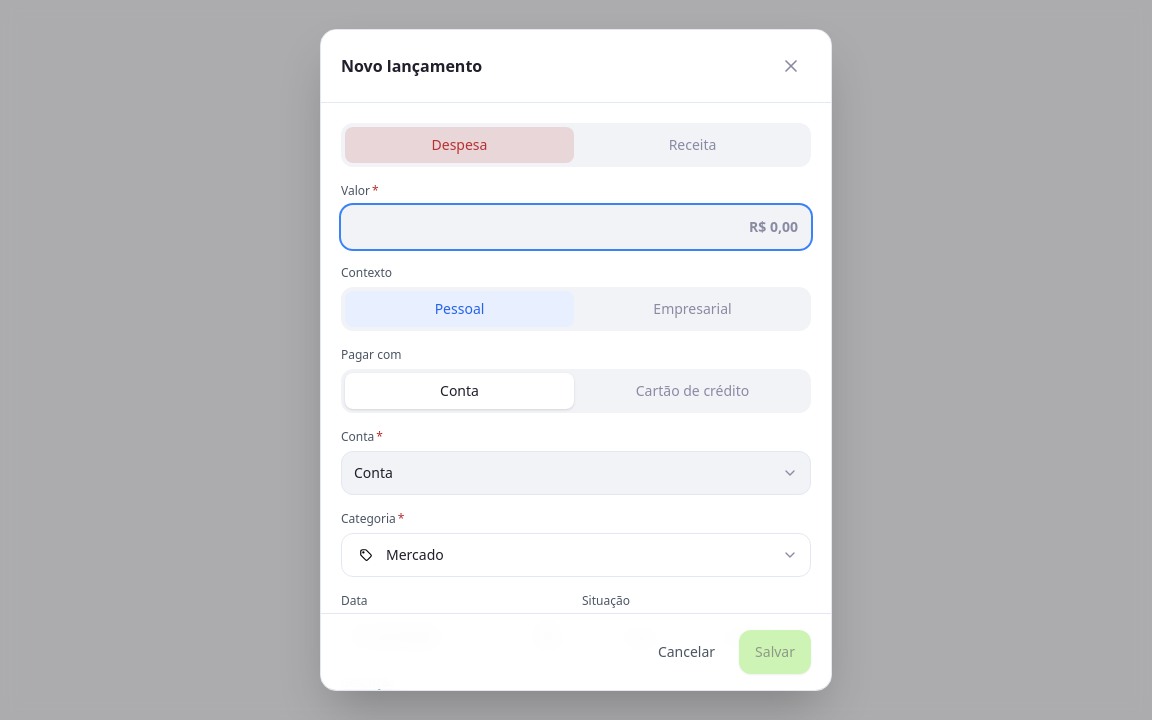
TransactionModal › rollback que falha avisa para remover a recorrência
In the field with placeholder "R$ 0,00": x=576, y=227 [341,205,811,249], type "50,00"
(page scrolled)
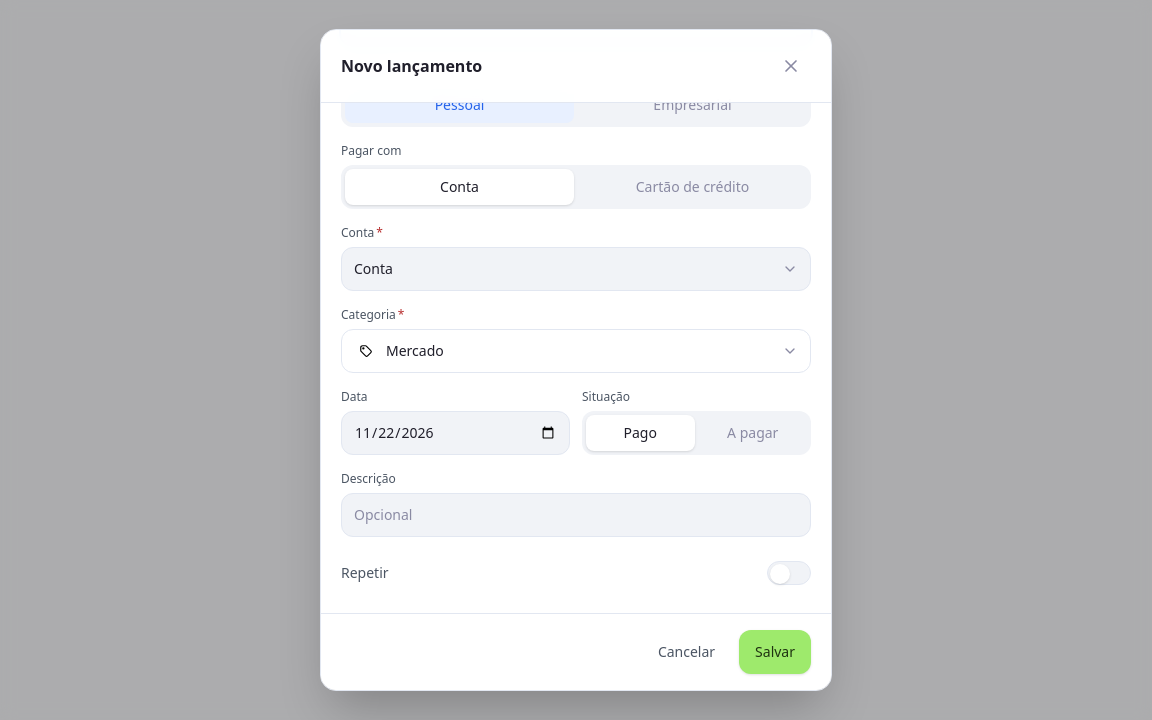
Click the switch labelled "Repetir": x=365, y=572 [341,553,811,593]
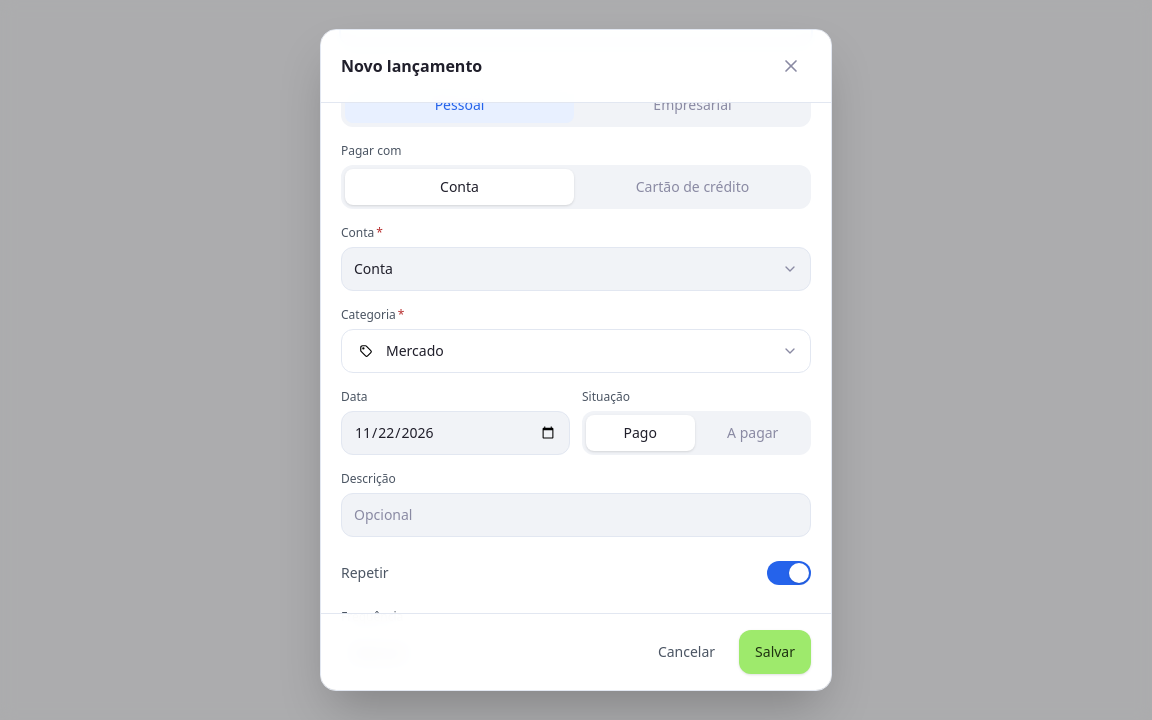
Click the button "Salvar": x=775, y=652 [739,630,811,674]
(page scrolled)
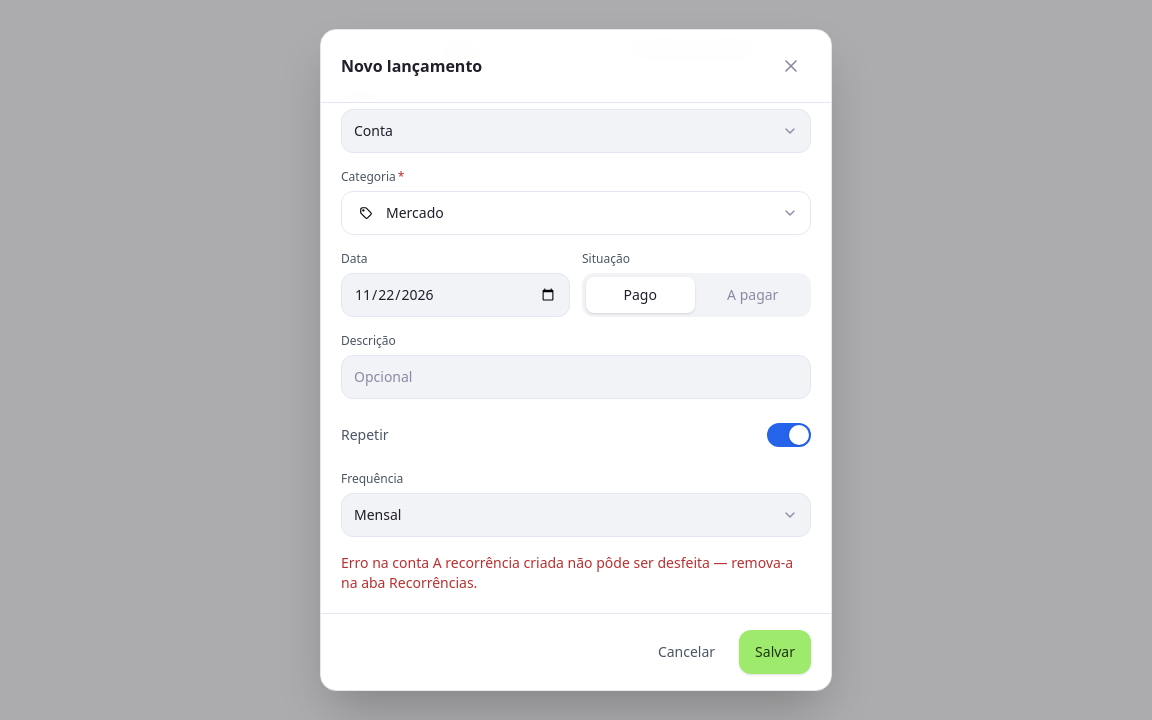
Expected: the message shows "remova-a na aba Recorrências", [341,553,793,592]
